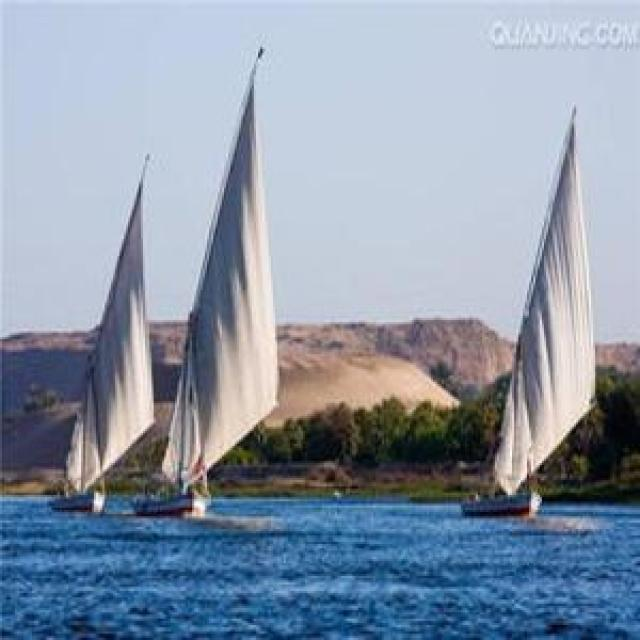sailboat: (140, 42, 282, 517), (455, 99, 599, 518), (45, 147, 153, 514)
